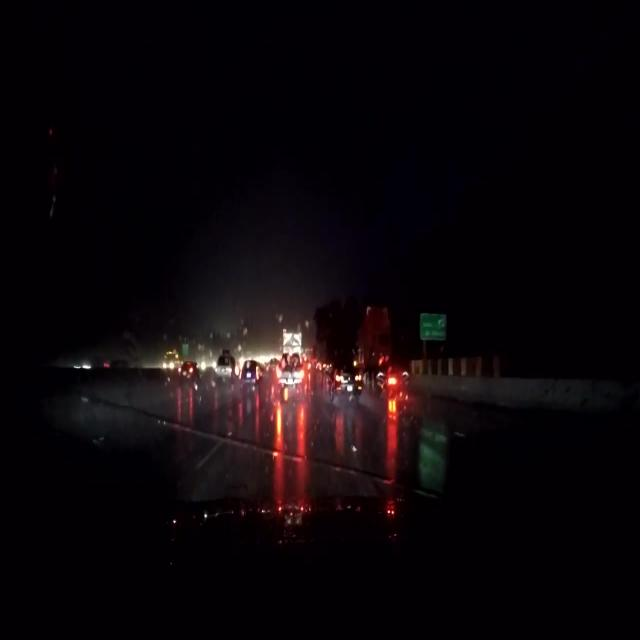Car: (327, 366, 360, 398), (238, 357, 260, 392), (214, 348, 233, 380), (176, 359, 195, 380)
